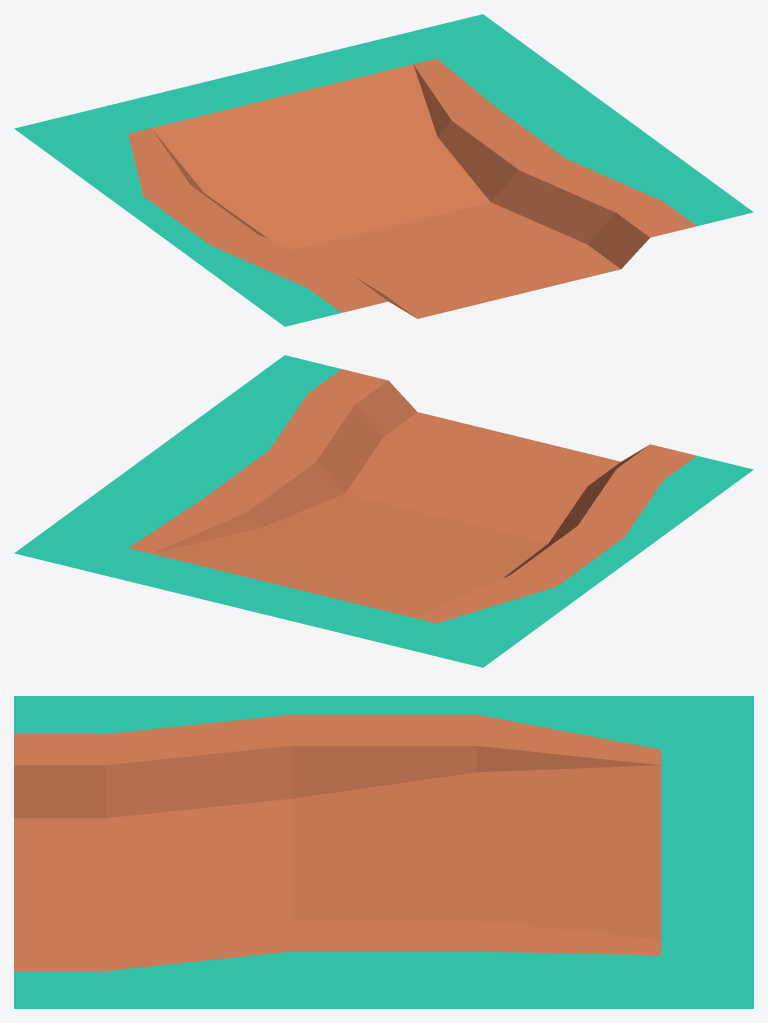
The picture shows the model from 3 angles, top to bottom: view 1: azimuth 30°, elevation 25°; view 2: azimuth 150°, elevation 25°; view 3: azimuth 270°, elevation 25°; orthographic projection. The views are drawn at different scales.
Parts seen in each view (by area): view 1: ground_pathEnd; view 2: ground_pathEnd; view 3: ground_pathEnd.
Boxes of the visible parts, bbox=[...] form: ground_pathEnd: bbox=[14, 14, 753, 326]; ground_pathEnd: bbox=[14, 355, 753, 667]; ground_pathEnd: bbox=[14, 696, 753, 1008].
Size of the model in its own units: 1 by 0.05 by 1.
